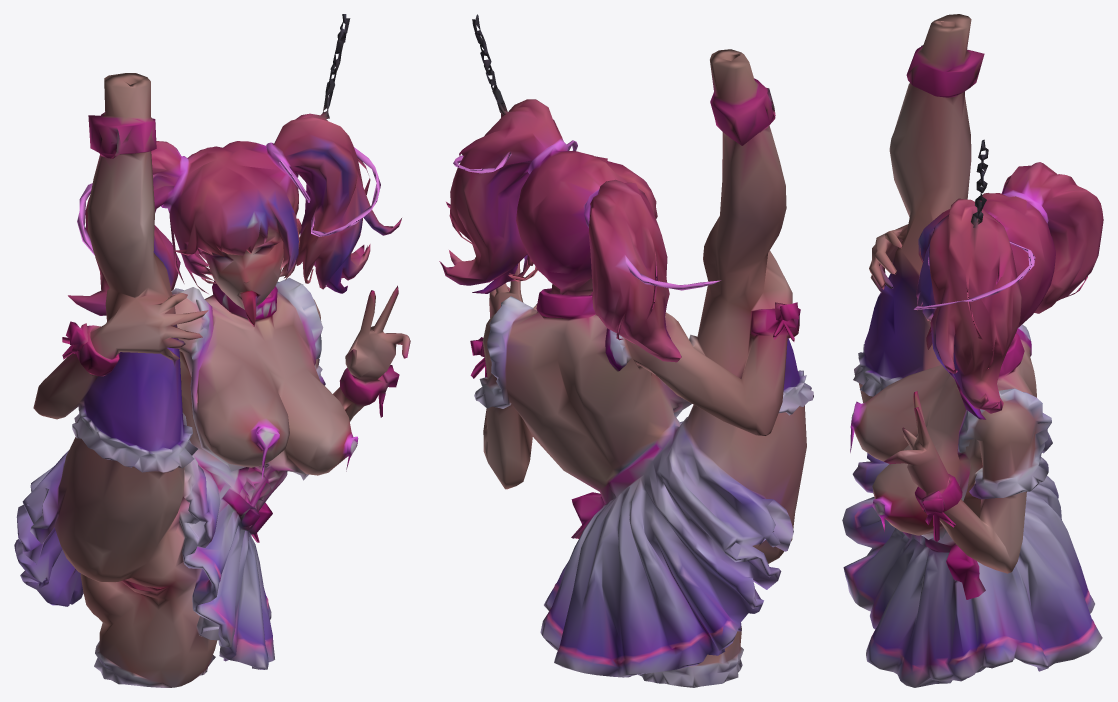
File: 01a1a7c7-abab-7b74-a8b7-b8fe957ec74b.glb
The picture shows the model from 3 angles, left to right: view 1: azimuth 30°, elevation 25°; view 2: azimuth 150°, elevation 25°; view 3: azimuth 270°, elevation 25°; orthographic projection.
Parts seen in each view (by area): view 1: model; view 2: model; view 3: model.
Boxes of the visible parts, left/top/right/bottom form: model: left=14, top=14, right=410, bottom=687; model: left=439, top=14, right=813, bottom=687; model: left=842, top=14, right=1103, bottom=687.
Size of the model in its own units: 1.02 by 1.65 by 0.6415.
